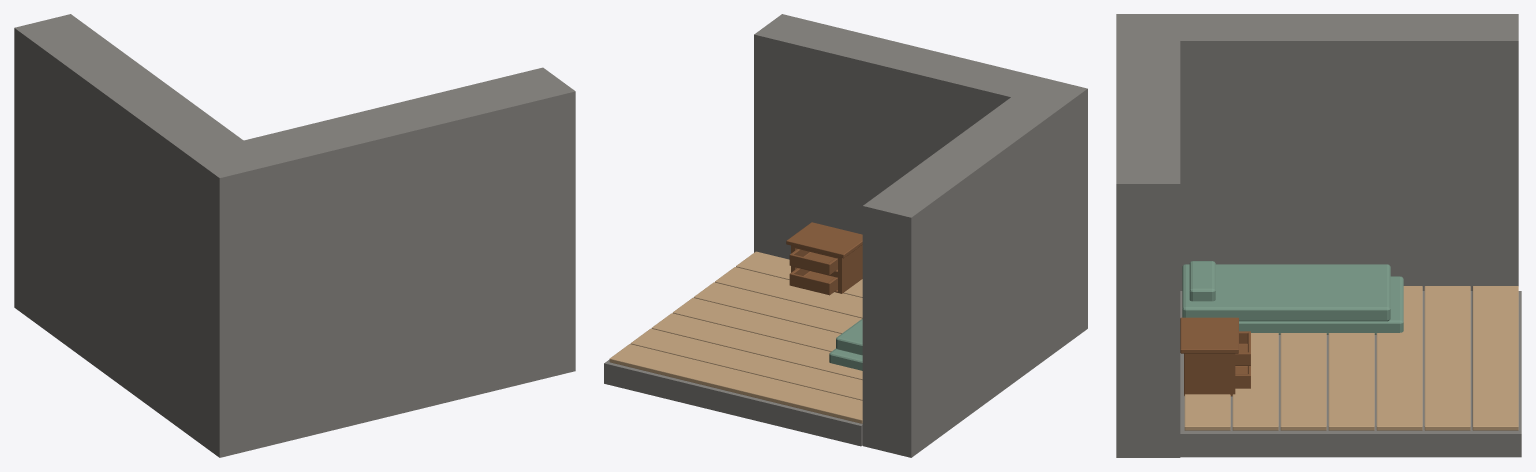
The model's file is room 1.fbx.
The picture shows the model from 3 angles, left to right: view 1: azimuth 30°, elevation 25°; view 2: azimuth 150°, elevation 25°; view 3: azimuth 270°, elevation 25°; orthographic projection. The views are drawn at different scales.
Parts seen in each view (by area): view 1: Cubo; view 2: Cubo, Plano.003, Cubo.001, Plano.007; view 3: Cubo, Plano.003, Plano.007, Cubo.001.
Part boxes in pixels (bbox=[...]): Cubo: bbox=[14, 14, 575, 457]; Cubo: bbox=[604, 14, 1087, 457]; Plano.003: bbox=[609, 251, 862, 423]; Cubo.001: bbox=[786, 222, 862, 295]; Plano.007: bbox=[829, 318, 862, 370]; Cubo: bbox=[1116, 14, 1521, 457]; Plano.003: bbox=[1184, 286, 1518, 430]; Plano.007: bbox=[1182, 261, 1403, 334]; Cubo.001: bbox=[1180, 317, 1250, 396].
Size of the model in its own units: 2.38 by 1.79 by 2.4.
